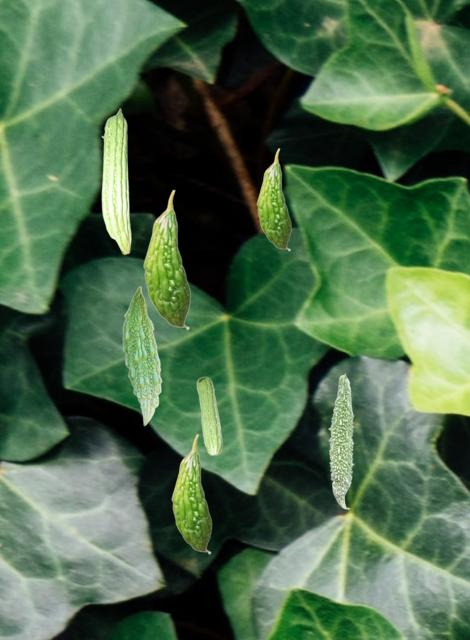ampalaya: (142, 189, 191, 330), (122, 285, 162, 426), (171, 434, 212, 554), (101, 108, 131, 255), (328, 373, 355, 509), (256, 148, 291, 251), (196, 376, 223, 455)
